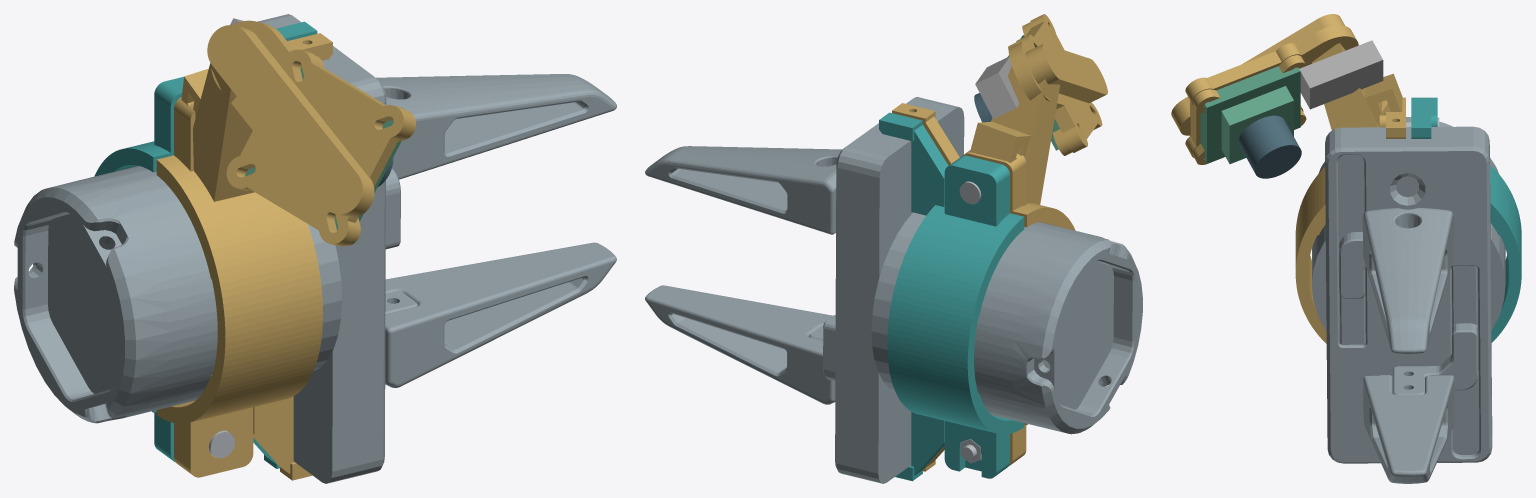
The model's file is mount_on_gripper.glb.
3 renders of one model, left to right at view 1: azimuth 30°, elevation 25°; view 2: azimuth 150°, elevation 25°; view 3: azimuth 270°, elevation 25°, orthographic. The views are drawn at different scales.
Parts seen in each view (by area): view 1: upper_bracket, gripper_link, gripper_finger_link2, gripper_finger_link1, lower_bracket; view 2: gripper_link, lower_bracket, upper_bracket, gripper_finger_link2, gripper_finger_link1, camera_usb; view 3: gripper_link, gripper_finger_link1, upper_bracket, gripper_finger_link2, lower_bracket, camera_usb, camera_body, camera_lens, camera_holder.
Boxes of the visible parts, x1=… form: upper_bracket: x1=156, y1=20, x2=415, y2=480; gripper_link: x1=14, y1=14, x2=386, y2=483; gripper_finger_link2: x1=385, y1=242, x2=616, y2=387; gripper_finger_link1: x1=376, y1=74, x2=616, y2=249; lower_bracket: x1=94, y1=21, x2=317, y2=468; gripper_link: x1=835, y1=97, x2=1142, y2=483; lower_bracket: x1=879, y1=112, x2=1024, y2=481; upper_bracket: x1=892, y1=14, x2=1107, y2=471; gripper_finger_link2: x1=645, y1=285, x2=835, y2=404; gripper_finger_link1: x1=645, y1=146, x2=842, y2=234; camera_usb: x1=975, y1=56, x2=1019, y2=118; gripper_link: x1=1312, y1=117, x2=1505, y2=463; gripper_finger_link1: x1=1339, y1=207, x2=1454, y2=353; upper_bracket: x1=1171, y1=14, x2=1405, y2=343; gripper_finger_link2: x1=1363, y1=266, x2=1478, y2=483; lower_bracket: x1=1411, y1=97, x2=1521, y2=342; camera_usb: x1=1299, y1=40, x2=1383, y2=109; camera_body: x1=1200, y1=66, x2=1300, y2=163; camera_lens: x1=1238, y1=115, x2=1301, y2=178; camera_holder: x1=1221, y1=86, x2=1293, y2=163.
Bounding box in the file's own units: 0.155 × 0.1382 × 0.1085.
